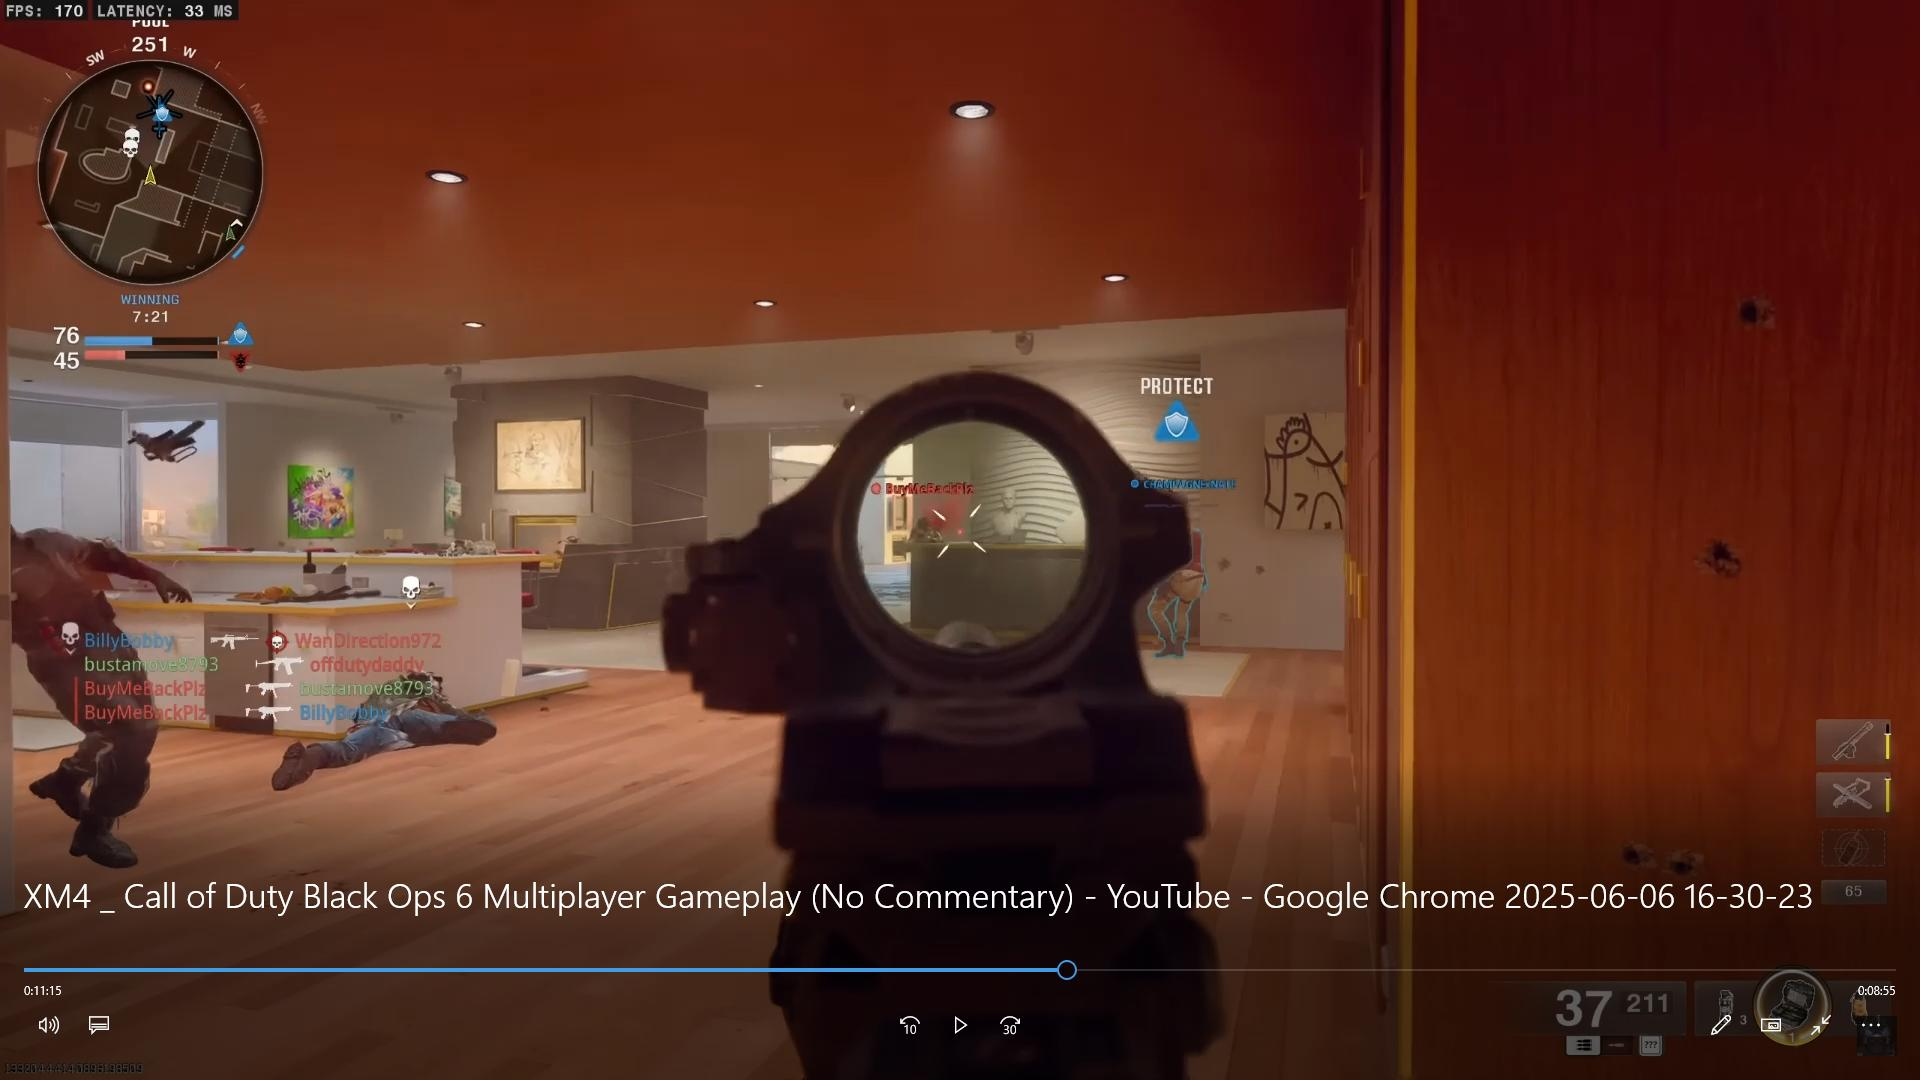Enemy: (887, 479, 953, 550)
